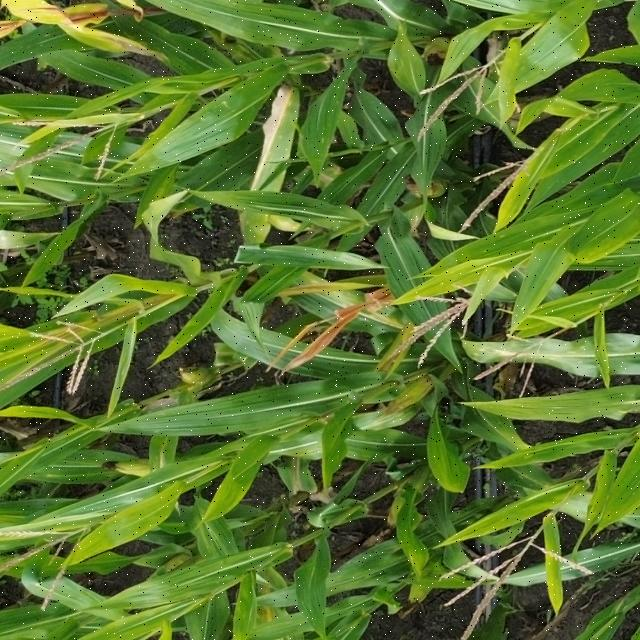northern-leaf-blight: (21, 2, 176, 69)
southern-leaf-blight: (450, 329, 640, 394), (493, 118, 609, 215), (144, 83, 260, 173), (412, 224, 542, 302), (286, 80, 358, 169)
